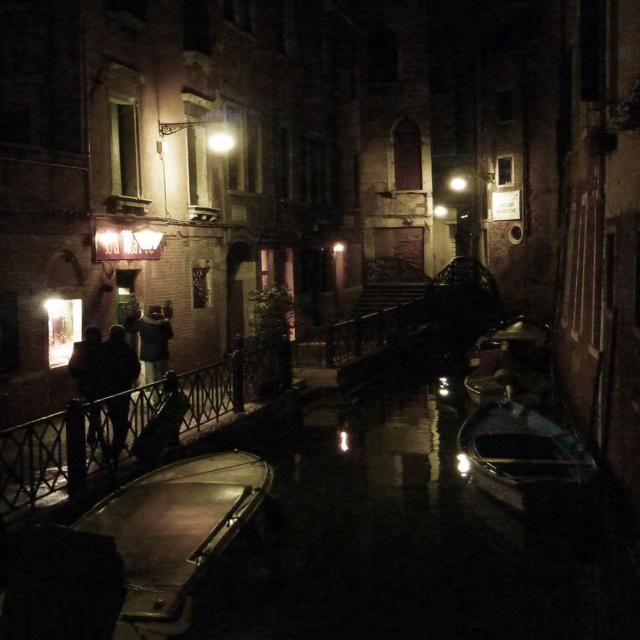Boat: (0, 437, 317, 613), (389, 402, 627, 528), (460, 314, 598, 378)
